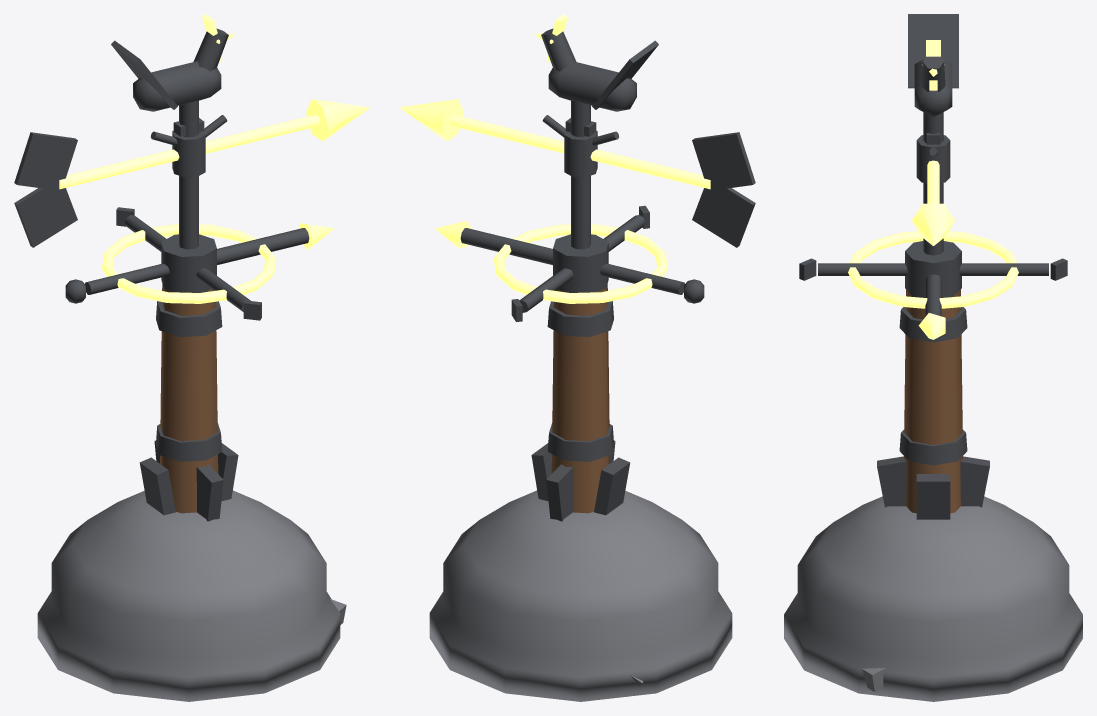
Rendered from weather-vane.glb.
3 renders of one model, left to right at view 1: azimuth 30°, elevation 25°; view 2: azimuth 150°, elevation 25°; view 3: azimuth 270°, elevation 25°, orthographic.
Visible parts, largest first — view 1: Mesh_StoneBase, Mesh_WoodPost, Mesh_CompassRing, Mesh_NeedleShaft, Mesh_RoosterBody, Mesh_TailTop, Mesh_TailBot, Mesh_CompassCollar, Mesh_Spindle, Mesh_IronBandUpper, Mesh_IronBandLower, Mesh_ArmNorth (+10 smaller); view 2: Mesh_StoneBase, Mesh_WoodPost, Mesh_CompassRing, Mesh_NeedleShaft, Mesh_RoosterBody, Mesh_TailTop, Mesh_TailBot, Mesh_CompassCollar, Mesh_Spindle, Mesh_IronBandUpper, Mesh_IronBandLower, Mesh_ArmNorth (+10 smaller); view 3: Mesh_StoneBase, Mesh_WoodPost, Mesh_CompassRing, Mesh_RoosterTail, Mesh_CompassCollar, Mesh_BracketF, Mesh_IronBandLower, Mesh_RoosterBody, Mesh_BracketR, Mesh_BracketL, Mesh_Arrowhead, Mesh_VaneNeedleGroup (+8 smaller).
Boxes of the visible parts, x1,y1,x2,y2 form: Mesh_StoneBase: (37,490,340,701); Mesh_WoodPost: (160,284,218,513); Mesh_CompassRing: (102,224,276,303); Mesh_NeedleShaft: (59,115,320,189); Mesh_RoosterBody: (133,61,221,111); Mesh_TailTop: (14,132,77,190); Mesh_TailBot: (14,180,77,247); Mesh_CompassCollar: (161,234,216,292); Mesh_Spindle: (179,100,198,249); Mesh_IronBandUpper: (156,301,222,337); Mesh_IronBandLower: (156,423,222,461); Mesh_ArmNorth: (217,228,309,264); Mesh_StoneBase: (429,490,732,701); Mesh_WoodPost: (551,284,609,513); Mesh_CompassRing: (493,224,667,303); Mesh_NeedleShaft: (449,115,710,189); Mesh_RoosterBody: (548,61,636,111); Mesh_TailTop: (692,132,755,190); Mesh_TailBot: (692,178,755,247); Mesh_CompassCollar: (553,234,608,292); Mesh_Spindle: (571,100,590,249); Mesh_IronBandUpper: (547,301,613,337); Mesh_IronBandLower: (547,423,613,461); Mesh_ArmNorth: (460,228,552,264); Mesh_StoneBase: (784,496,1082,701); Mesh_WoodPost: (904,289,962,513); Mesh_CompassRing: (848,231,1018,308); Mesh_RoosterTail: (908,14,958,88); Mesh_CompassCollar: (905,241,961,297); Mesh_BracketF: (916,474,950,519); Mesh_IronBandLower: (899,429,967,465); Mesh_RoosterBody: (914,59,952,117); Mesh_BracketR: (877,456,906,507); Mesh_BracketL: (960,456,989,507); Mesh_Arrowhead: (912,203,954,245); Mesh_VaneNeedleGroup: (916,135,950,183).
Bounding box in the file's own units: 0.5963 × 0.9966 × 0.44.
3 materials, 3 textured.
